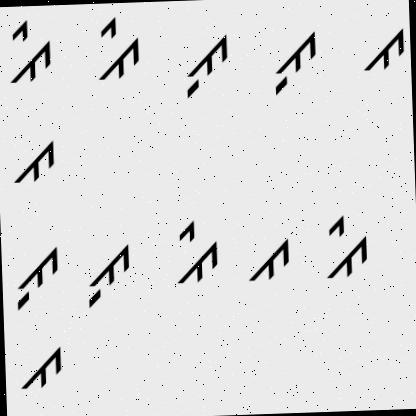ka: (354, 26, 408, 84), (245, 232, 298, 290), (16, 341, 66, 396), (8, 136, 58, 188)
ki: (312, 204, 372, 284), (170, 217, 224, 290), (92, 12, 144, 85), (4, 14, 55, 88)
ku: (263, 20, 320, 106), (177, 30, 233, 103), (81, 240, 136, 314), (11, 240, 64, 314)
